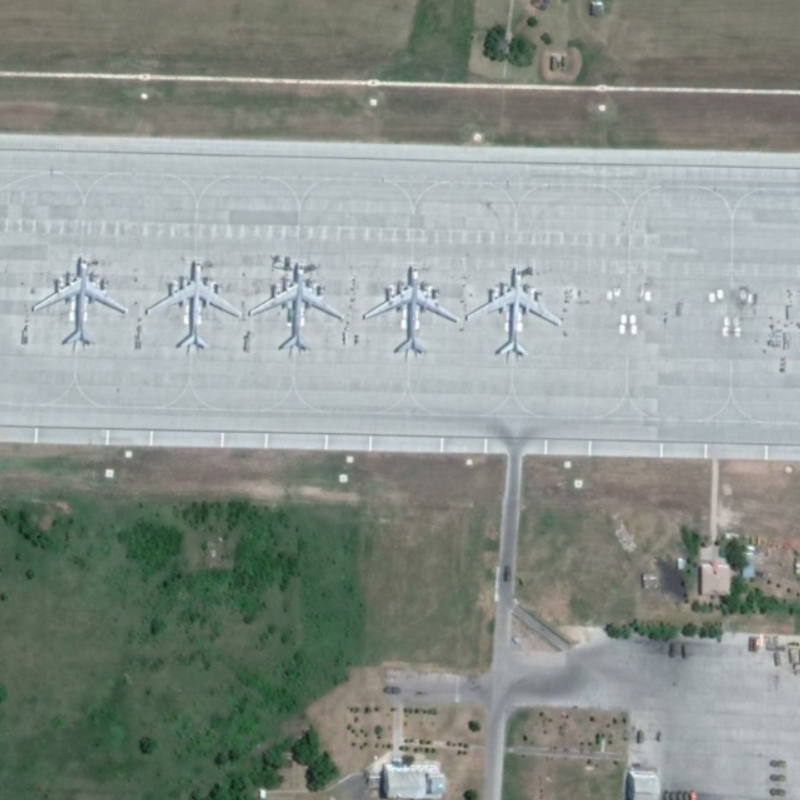A17: (463, 263, 564, 362), (246, 260, 347, 355), (30, 254, 131, 347), (361, 265, 461, 357), (144, 259, 244, 351)
